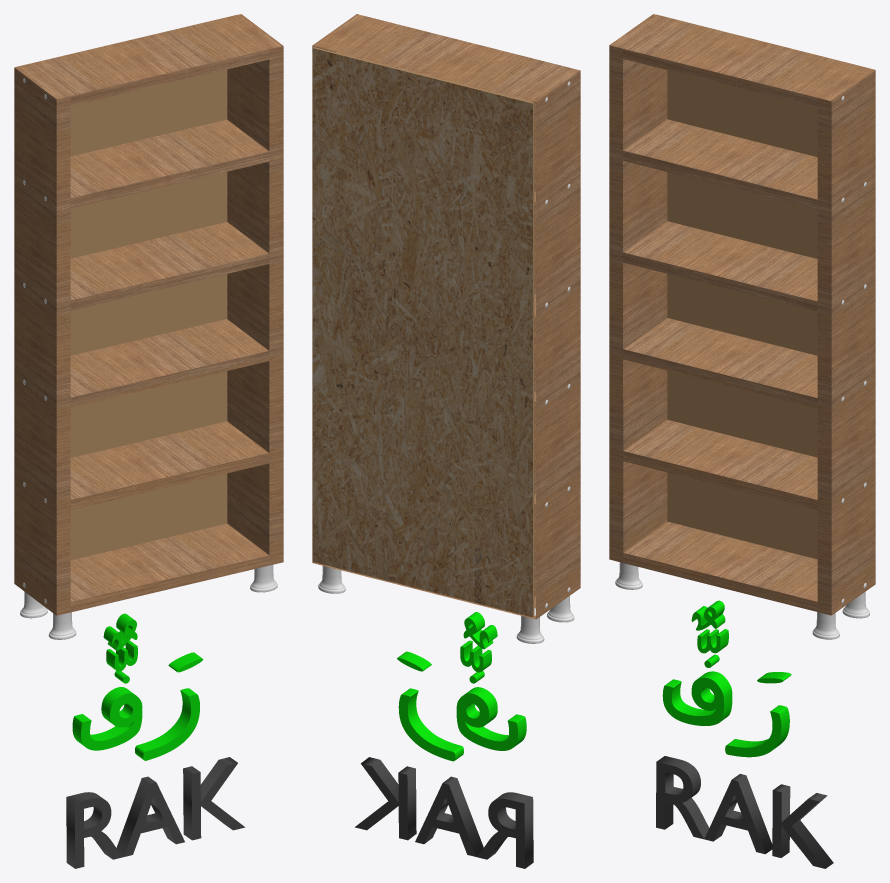
File: kitaplık.fbx
3 views of the same model, side by side, from view 1: azimuth 30°, elevation 25°; view 2: azimuth 150°, elevation 25°; view 3: azimuth 330°, elevation 25° (orthographic).
Visible parts, largest first — view 1: Cube, Plane, Teks, Text, Text.002, Text.003, Cylinder.001, Cylinder.002; view 2: Plane, Cube, Teks, Text, Text.002, Text.003, Cylinder.003, Cylinder; view 3: Cube, Plane, Teks, Text, Text.002, Text.003, Cylinder.001, Cylinder.002.
Boxes of the visible parts, x1=… form: Cube: x1=14, y1=14, x2=283, y2=615; Plane: x1=15, y1=14, x2=237, y2=560; Teks: x1=66, y1=757, x2=245, y2=868; Text: x1=72, y1=671, x2=199, y2=760; Text.002: x1=103, y1=613, x2=137, y2=650; Text.003: x1=106, y1=640, x2=137, y2=671; Cylinder.001: x1=250, y1=565, x2=277, y2=592; Cylinder.002: x1=48, y1=612, x2=76, y2=639; Plane: x1=312, y1=47, x2=534, y2=617; Cube: x1=312, y1=14, x2=580, y2=619; Teks: x1=355, y1=757, x2=533, y2=868; Text: x1=398, y1=671, x2=526, y2=761; Text.002: x1=463, y1=612, x2=497, y2=649; Text.003: x1=460, y1=640, x2=491, y2=672; Cylinder.003: x1=516, y1=608, x2=544, y2=643; Cylinder: x1=318, y1=566, x2=345, y2=593; Cube: x1=609, y1=14, x2=875, y2=615; Plane: x1=657, y1=14, x2=874, y2=559; Teks: x1=656, y1=756, x2=833, y2=868; Text: x1=662, y1=654, x2=789, y2=757; Text.002: x1=691, y1=600, x2=725, y2=630; Text.003: x1=697, y1=629, x2=728, y2=653; Cylinder.001: x1=812, y1=612, x2=839, y2=639; Cylinder.002: x1=615, y1=562, x2=642, y2=589.
Size of the model in its own units: 308 by 1022 by 109.
